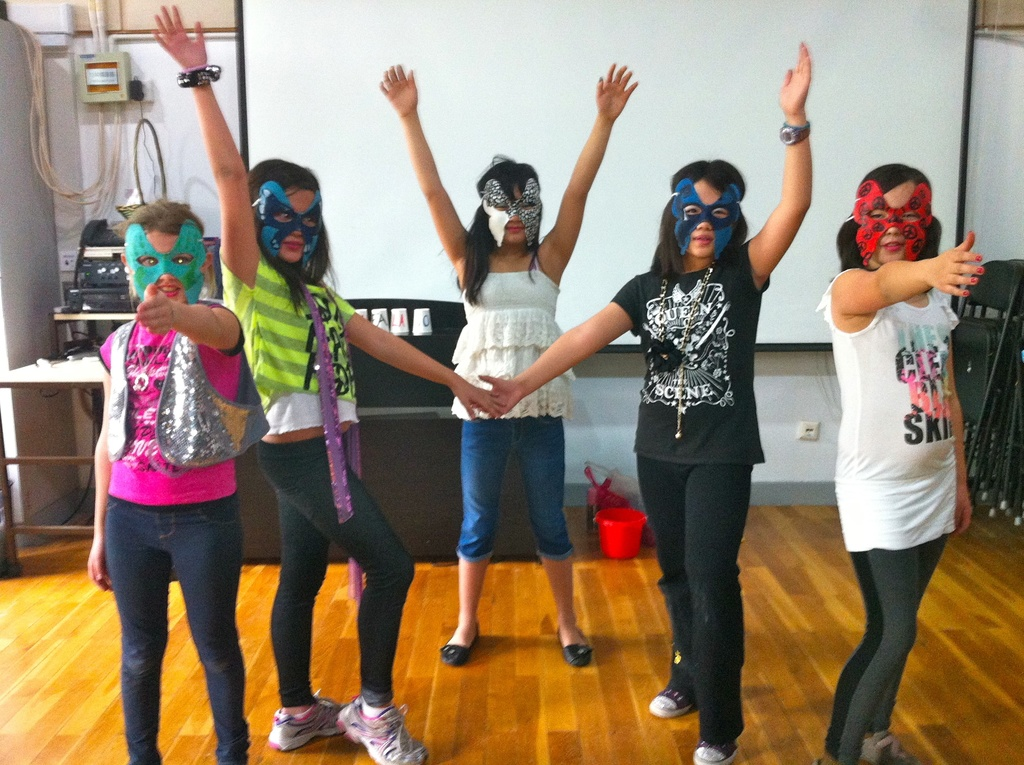Person: (148, 4, 507, 765), (471, 40, 813, 765), (380, 62, 638, 666), (86, 198, 271, 765), (815, 163, 985, 765)
